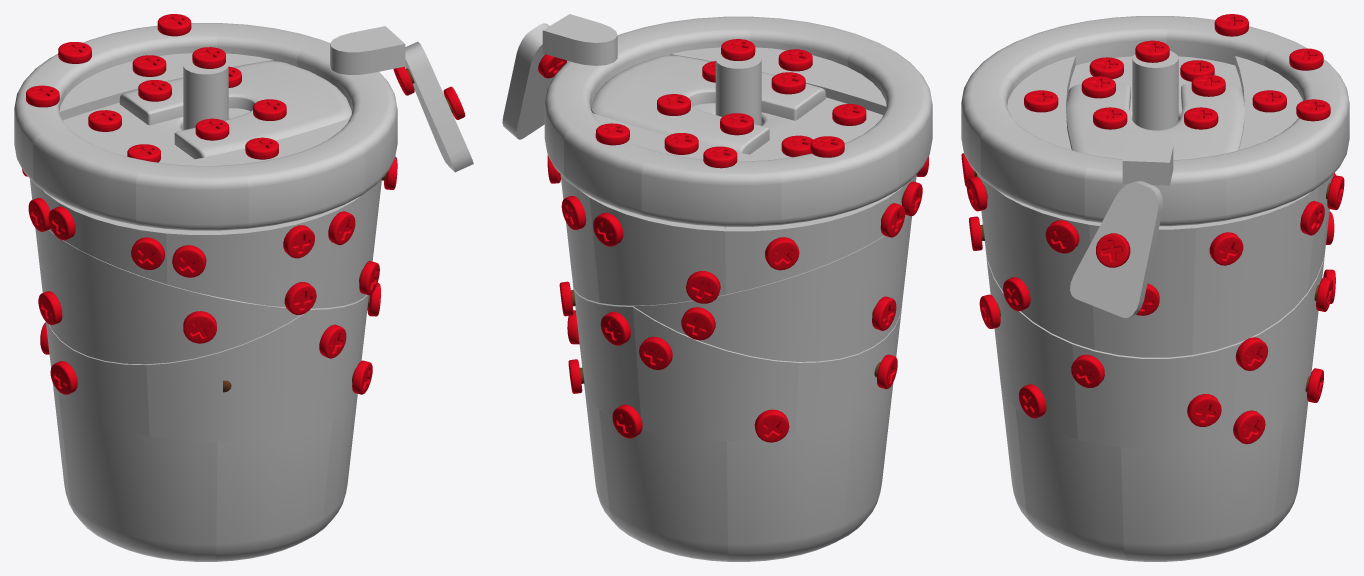
Rendered from lvl_72.fbx.
The picture shows the model from 3 angles, left to right: view 1: azimuth 30°, elevation 25°; view 2: azimuth 150°, elevation 25°; view 3: azimuth 270°, elevation 25°; orthographic projection.
Visible parts, largest first — view 1: Cube_L1_21, Cube_L1_17, Cube_L1_25, Cube_L1_22, Cube_L1_35, Cube_L1_12, Cube_L1_13, Cube_L1_14, Cube_L1_26, Cube_L1_29, Cube_L1_1, Cube_L1_36 (+40 smaller); view 2: Cube_L1_17, Cube_L1_24, Cube_L1_20, Cube_L1_27, Cube_L1_32, Cube_L1_16, Cube_L1_15, Cube_L1_33, Cube_L1_26, Cube_L1_2, Cube_L1_30, Cube_L1_9 (+41 smaller); view 3: Cube_L1_19, Cube_L1_28, Cube_L1_31, Cube_L1_23, Cube_L1_36, Cube_L1_18, Cube_L1_11, Cube_L1_5, Cube_L1_29, Cube_L1_30, Cube_L1_8, Cube_L1_10 (+44 smaller).
Part boxes in pixels (bbox=[...]): Cube_L1_21: bbox=[58, 394, 217, 561]; Cube_L1_17: bbox=[35, 228, 300, 364]; Cube_L1_25: bbox=[146, 310, 310, 442]; Cube_L1_22: bbox=[215, 419, 332, 561]; Cube_L1_35: bbox=[166, 216, 316, 307]; Cube_L1_12: bbox=[240, 138, 364, 228]; Cube_L1_13: bbox=[136, 161, 248, 230]; Cube_L1_14: bbox=[33, 129, 149, 225]; Cube_L1_26: bbox=[46, 322, 149, 435]; Cube_L1_29: bbox=[301, 294, 368, 431]; Cube_L1_1: bbox=[174, 82, 351, 159]; Cube_L1_36: bbox=[311, 179, 381, 308]; Cube_L1_17: bbox=[633, 215, 911, 361]; Cube_L1_24: bbox=[727, 417, 852, 561]; Cube_L1_20: bbox=[599, 410, 729, 561]; Cube_L1_27: bbox=[633, 306, 798, 440]; Cube_L1_32: bbox=[589, 197, 725, 305]; Cube_L1_16: bbox=[641, 152, 781, 226]; Cube_L1_15: bbox=[773, 133, 898, 224]; Cube_L1_33: bbox=[725, 188, 900, 294]; Cube_L1_26: bbox=[795, 303, 902, 434]; Cube_L1_2: bbox=[591, 77, 769, 154]; Cube_L1_30: bbox=[573, 284, 640, 418]; Cube_L1_9: bbox=[564, 124, 660, 215]; Cube_L1_19: bbox=[1121, 418, 1283, 561]; Cube_L1_28: bbox=[1072, 343, 1238, 448]; Cube_L1_31: bbox=[1192, 187, 1318, 354]; Cube_L1_23: bbox=[1015, 409, 1127, 560]; Cube_L1_36: bbox=[978, 175, 1094, 349]; Cube_L1_18: bbox=[1089, 221, 1195, 357]; Cube_L1_11: bbox=[980, 124, 1098, 220]; Cube_L1_5: bbox=[1070, 181, 1162, 317]; Cube_L1_29: bbox=[987, 261, 1077, 439]; Cube_L1_30: bbox=[1233, 261, 1323, 439]; Cube_L1_8: bbox=[1212, 132, 1315, 220]; Cube_L1_10: bbox=[1084, 156, 1226, 226].
Bounding box in the file's own units: 9.79 × 10.51 × 7.94.
